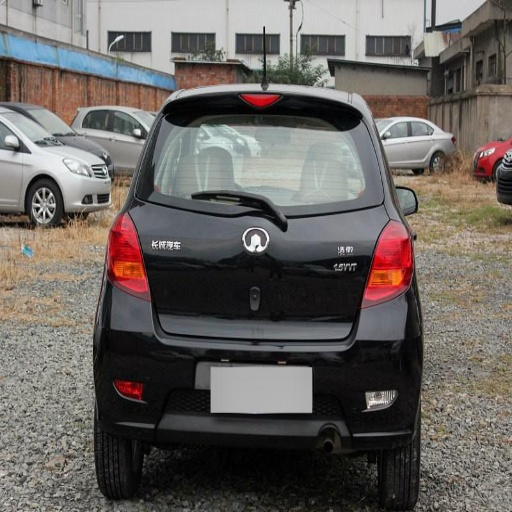back_bumper: (95, 285, 421, 449)
trunk: (135, 207, 386, 343)
